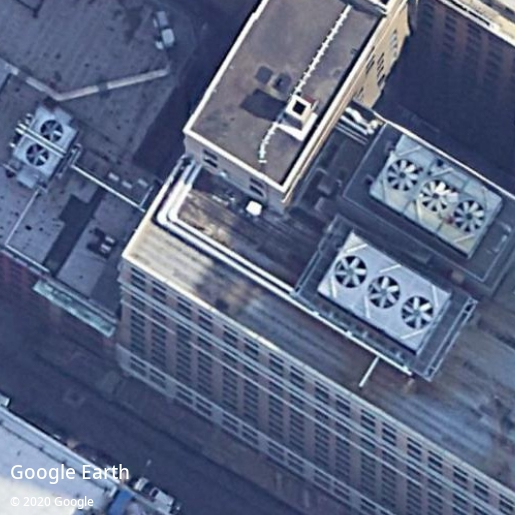Vent: (334, 255, 368, 288), (387, 159, 420, 192), (368, 276, 401, 309), (401, 296, 434, 329), (453, 199, 485, 231), (420, 180, 451, 212), (40, 119, 64, 144), (26, 143, 50, 166)
